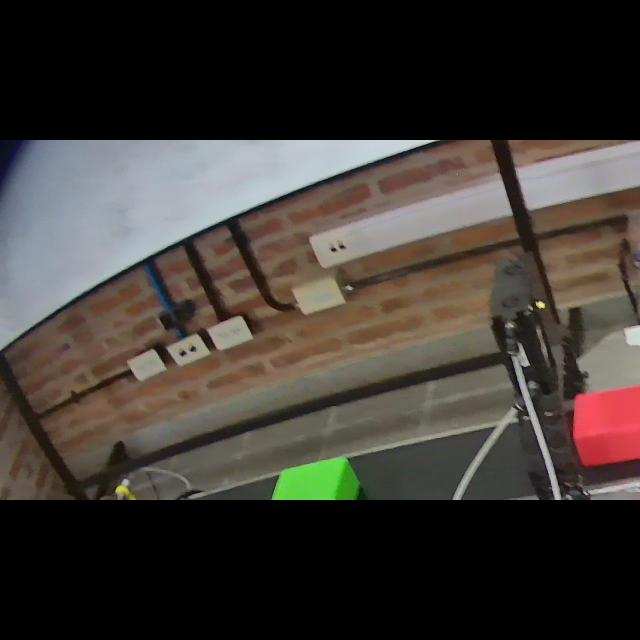greenBox: (260, 450, 370, 500)
redBox: (568, 378, 640, 470)
